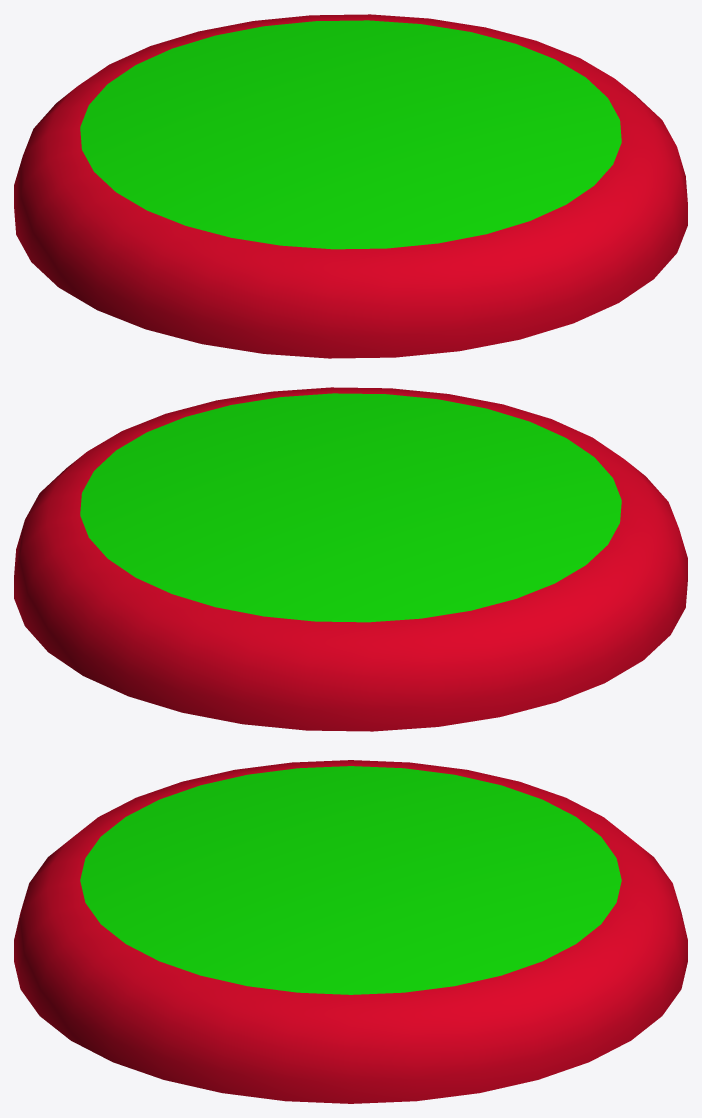
File: thing_aio.fbx
3 views of the same model, one above another, from view 1: azimuth 30°, elevation 25°; view 2: azimuth 150°, elevation 25°; view 3: azimuth 270°, elevation 25° (orthographic).
Visible parts, largest first — view 1: AiO; view 2: AiO; view 3: AiO.
Part boxes in pixels (x1=…): AiO: x1=14, y1=14, x2=687, y2=358; AiO: x1=14, y1=387, x2=687, y2=731; AiO: x1=14, y1=760, x2=687, y2=1103.
Size of the model in its own units: 219 by 29 by 219.
